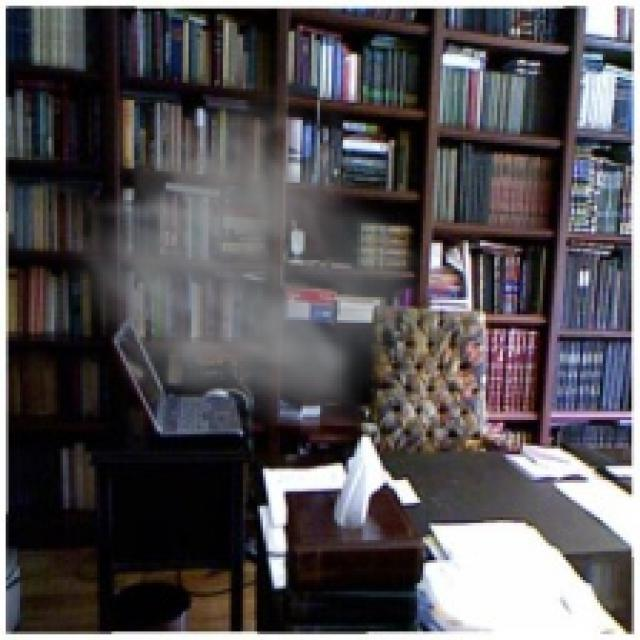Smoke: (57, 68, 440, 426)
